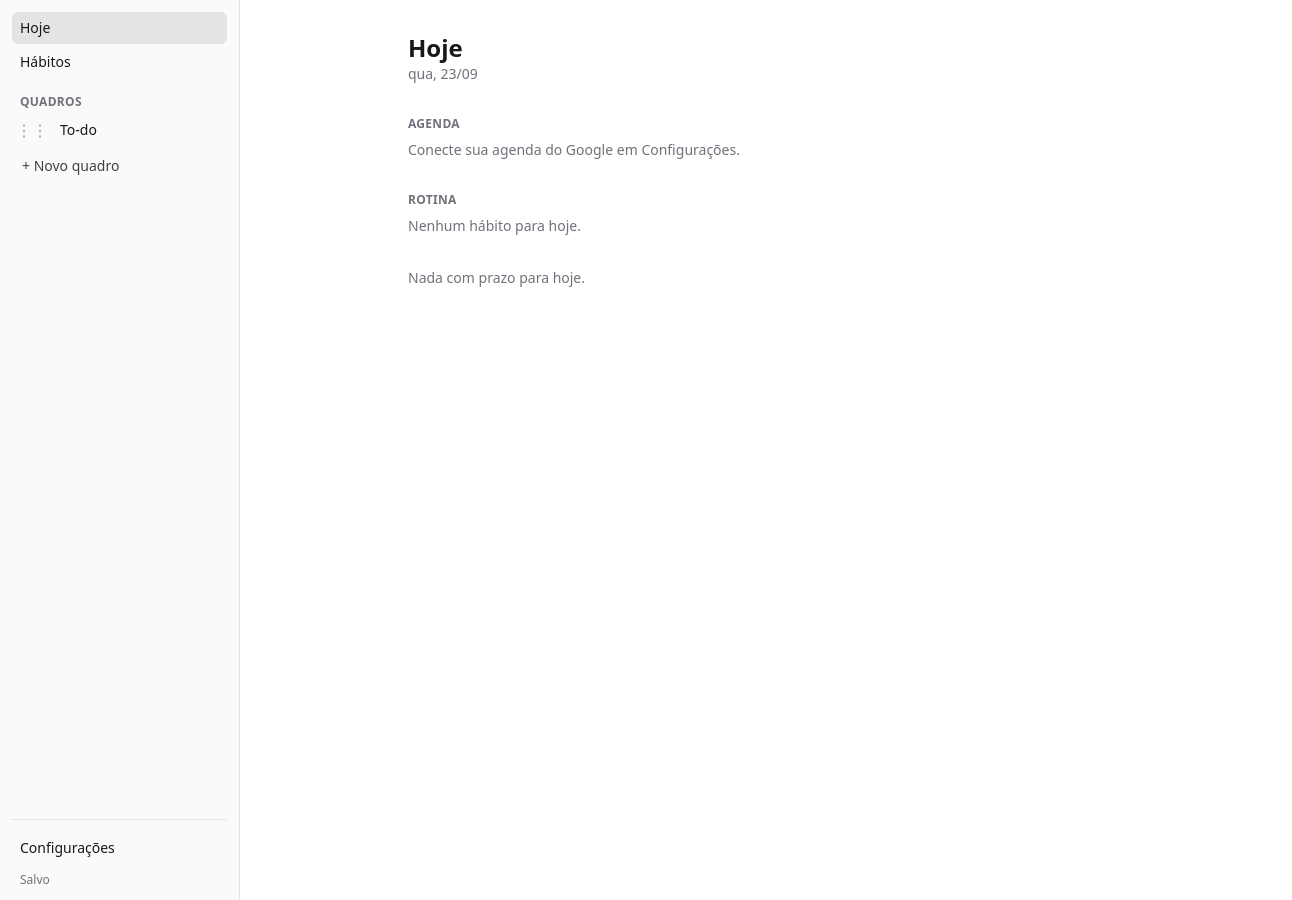
Test case: Shell › texto digitado na descrição é salvo ao trocar de cartão
Click the button "To-do" at {"x": 140, "y": 130}, box x1=52 y1=114 x2=227 y2=146
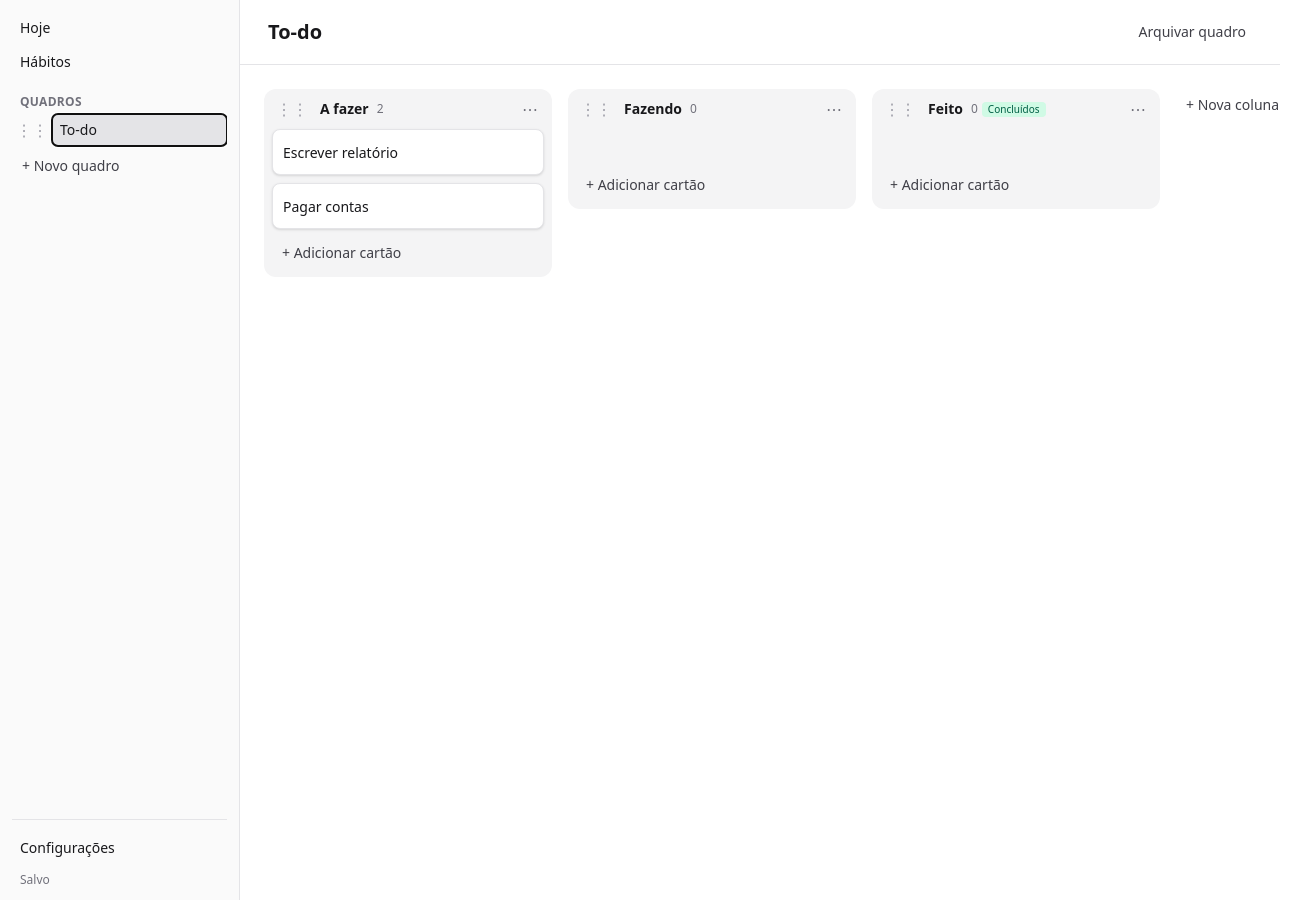
Click the button "Escrever relatório" at {"x": 408, "y": 153}, box x1=283 y1=143 x2=533 y2=163
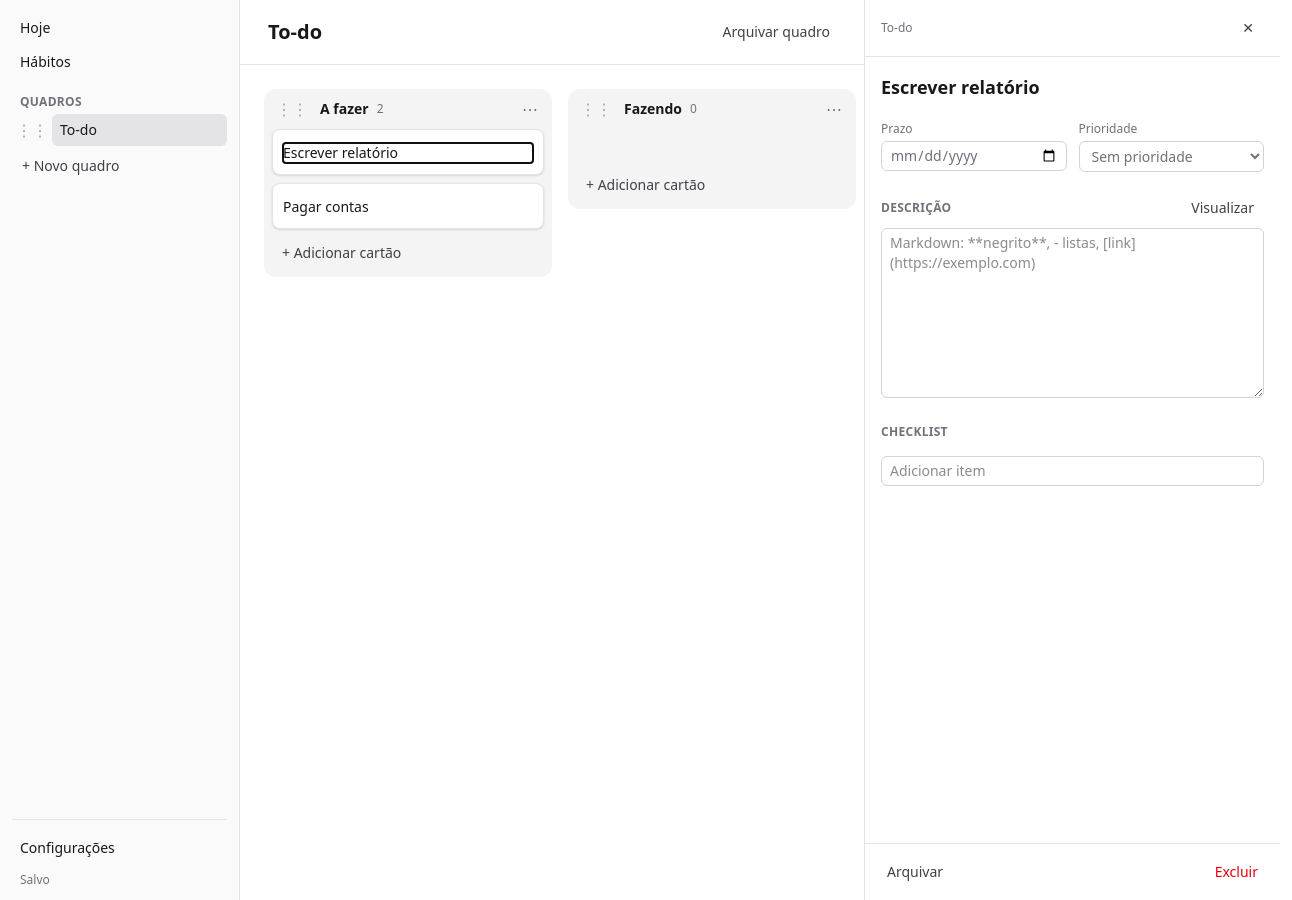
Type "Rascunho" into the text box named "Descrição" at {"x": 1072, "y": 313}, box x1=881 y1=228 x2=1264 y2=398
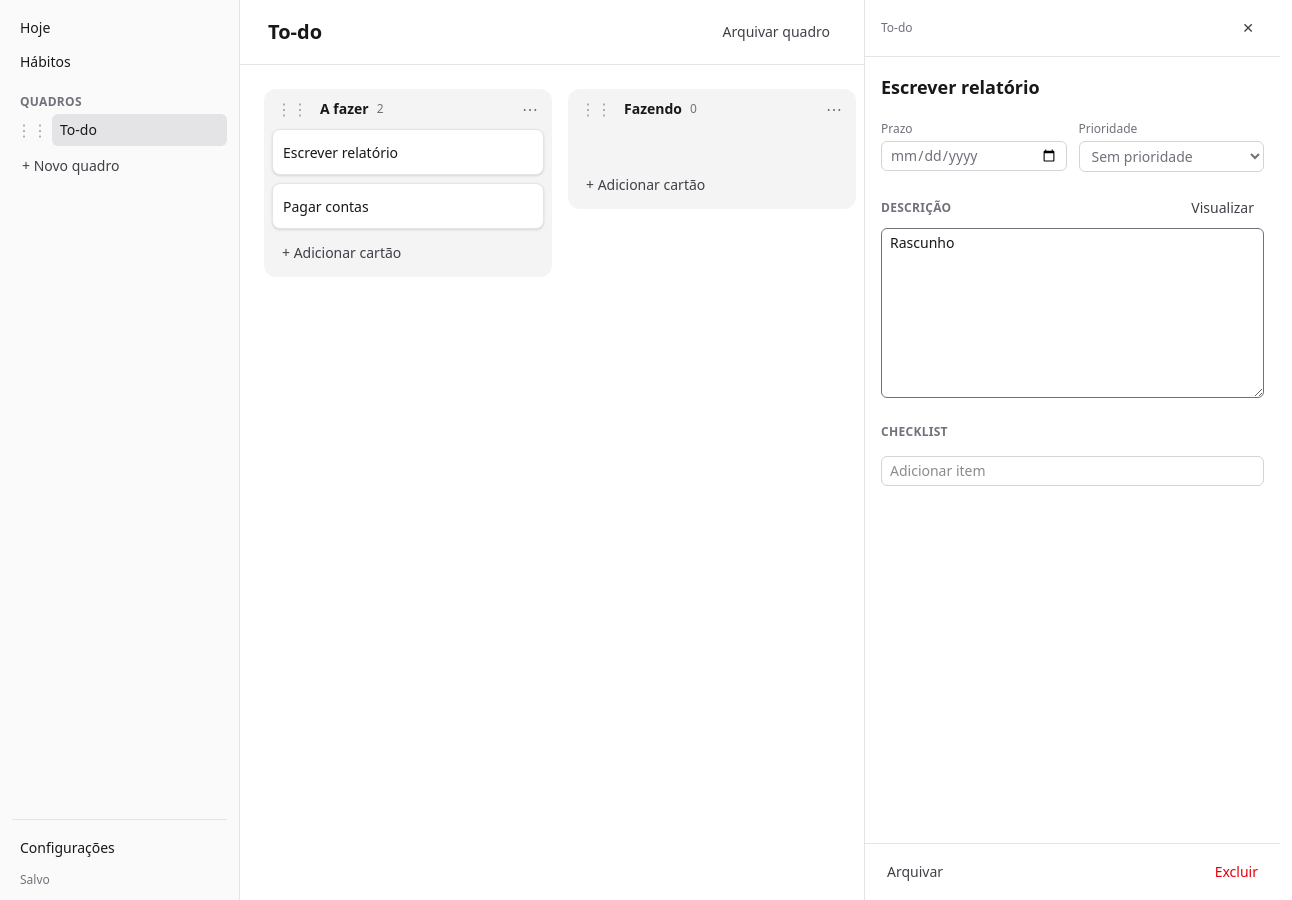
Click the button "Pagar contas" at {"x": 408, "y": 207}, box x1=283 y1=197 x2=533 y2=217
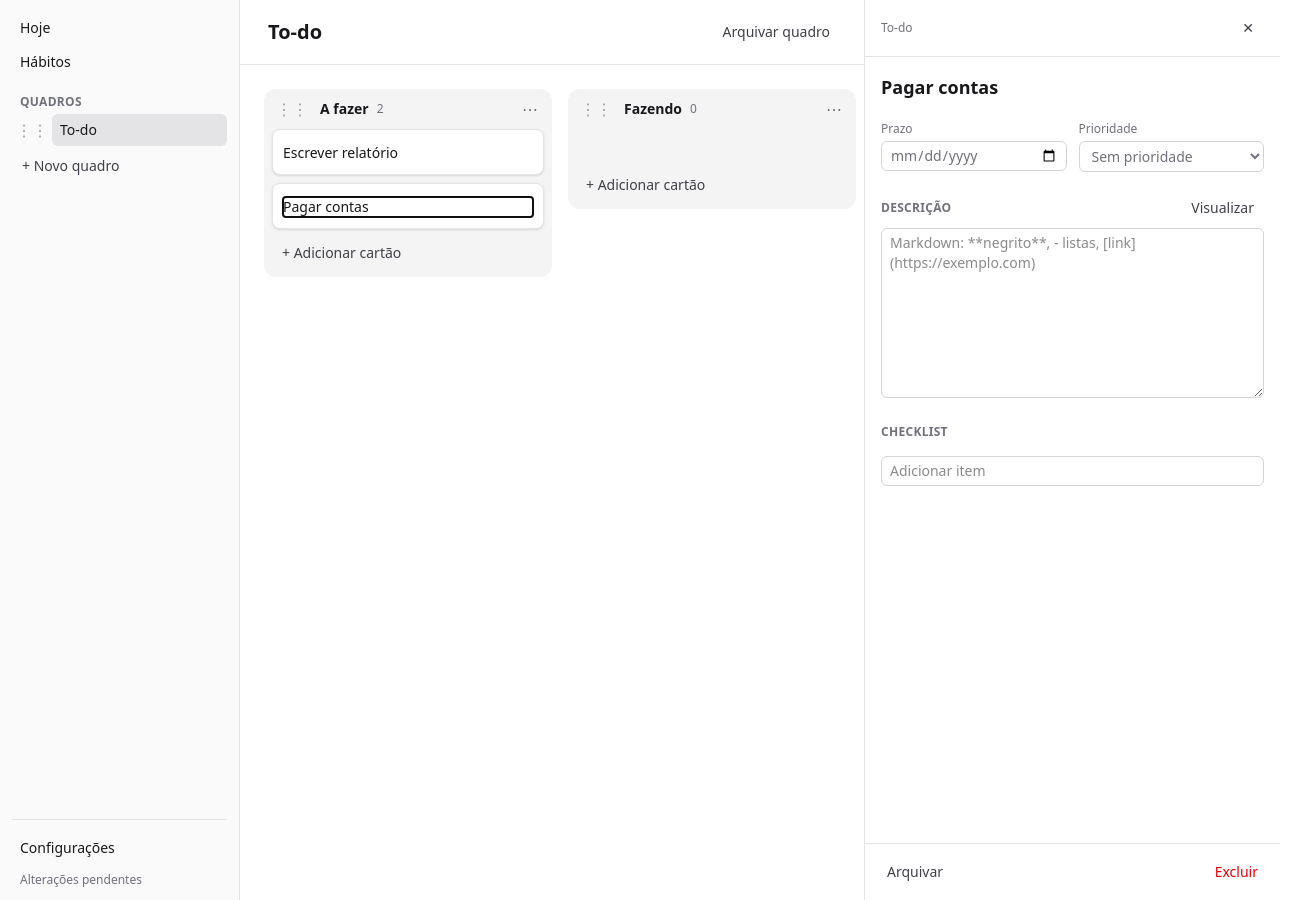
Now the field named "Título" holds "Pagar contas", box x1=881 y1=73 x2=1264 y2=101
